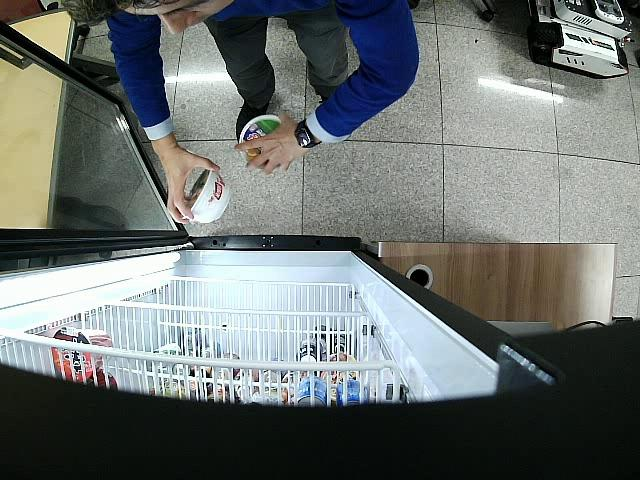00_hand: (159, 139, 220, 224), (235, 110, 299, 175)
09_yukGaeJang: (188, 166, 229, 222), (239, 115, 286, 155)
